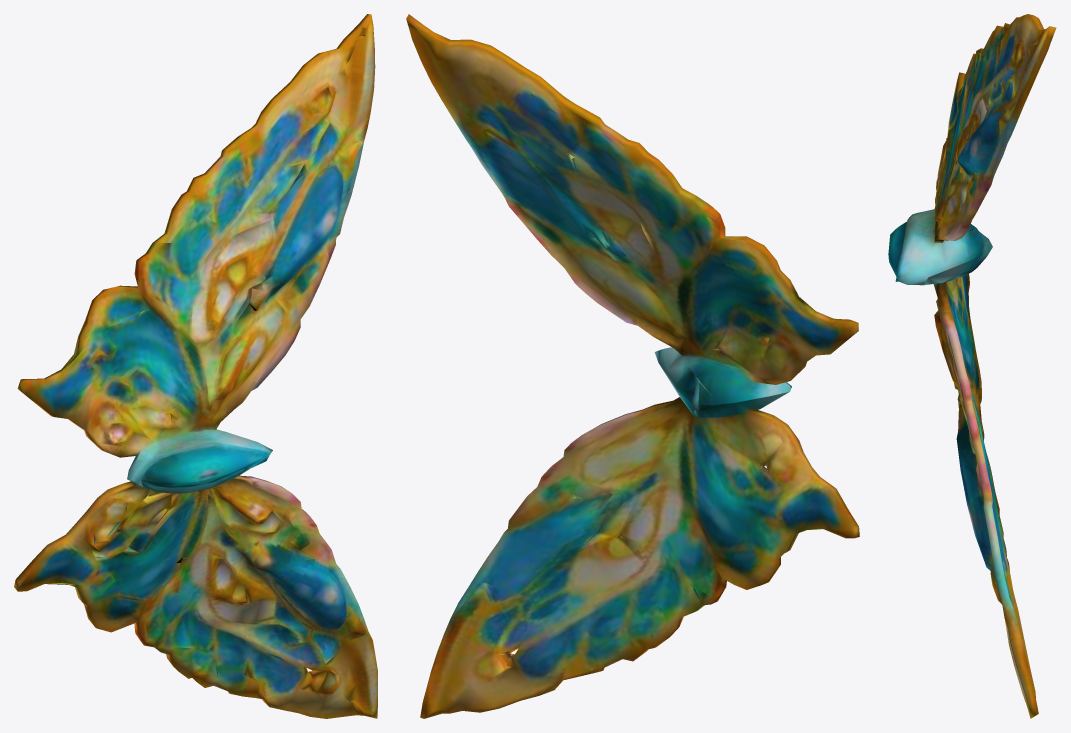
The model's file is back_prp_ailes_papillon.glb.
The picture shows the model from 3 angles, left to right: view 1: azimuth 30°, elevation 25°; view 2: azimuth 150°, elevation 25°; view 3: azimuth 270°, elevation 25°; orthographic projection. The views are drawn at different scales.
Visible parts, largest first — view 1: AileD, AileG; view 2: AileG, AileD; view 3: AileD, AileG.
Boxes of the visible parts, x1=… form: AileD: x1=17, y1=14, x2=375, y2=486; AileG: x1=14, y1=468, x2=377, y2=718; AileG: x1=420, y1=366, x2=859, y2=718; AileD: x1=406, y1=14, x2=858, y2=410; AileD: x1=888, y1=14, x2=1056, y2=285; AileG: x1=924, y1=247, x2=1038, y2=718.
Size of the model in its own units: 1.14 by 1.9 by 0.4169.
Materials: 1 (1 with a texture image).
